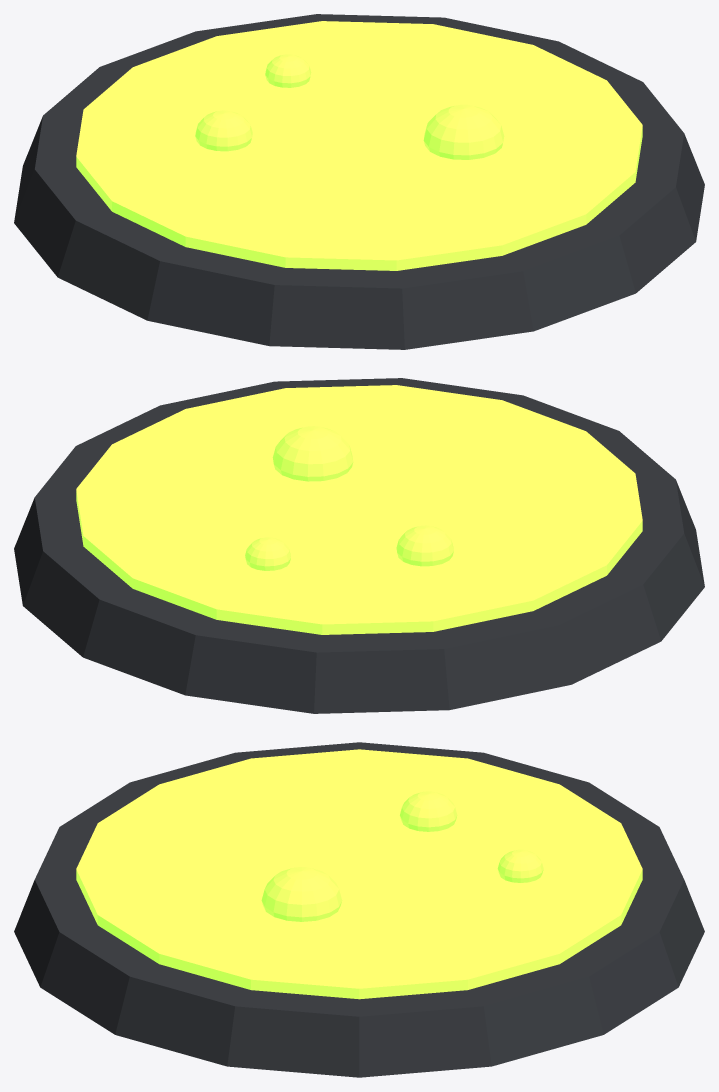
Rendered from acid-pool-lod0.glb.
3 views of the same model, one above another, from view 1: azimuth 30°, elevation 25°; view 2: azimuth 150°, elevation 25°; view 3: azimuth 270°, elevation 25° (orthographic).
Visible parts, largest first — view 1: acid-pool; view 2: acid-pool; view 3: acid-pool.
Part boxes in pixels (x1,y1,x2,y2): acid-pool: (14, 14, 704, 349); acid-pool: (14, 378, 704, 713); acid-pool: (14, 742, 704, 1077).
Bounding box in the file's own units: 1.2 × 0.186 × 1.2.
